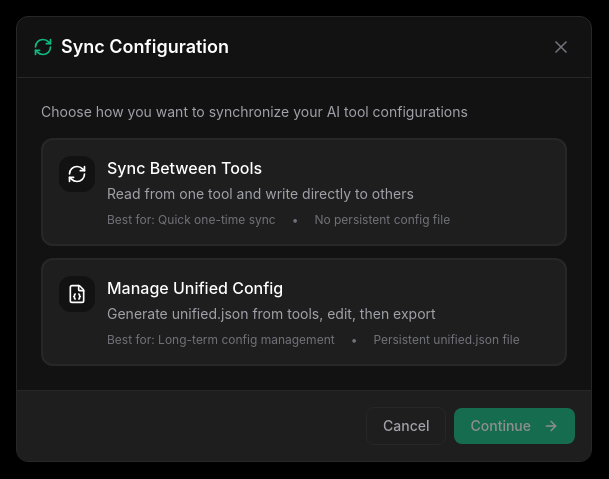
Test case: SyncModeDialog › Mode Selection › should select unified-config mode when clicked
What coordinates should you click on to do the following:
click the heading "Manage Unified Config"
I would click on:
 (195, 288)
Its box is [107,276,283,300].
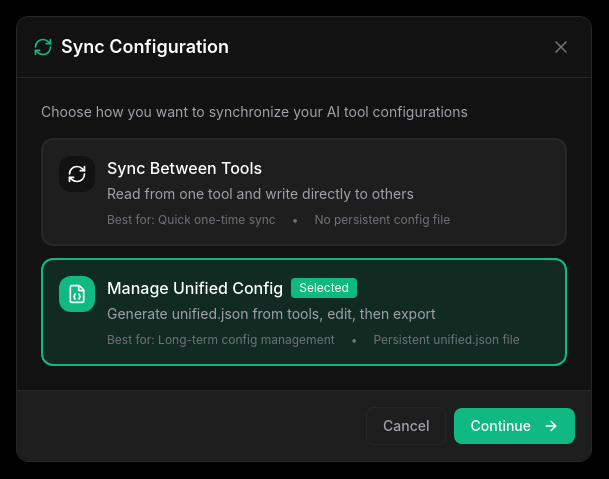
Now the text "Selected" is shown once, box [291,278,357,298]
